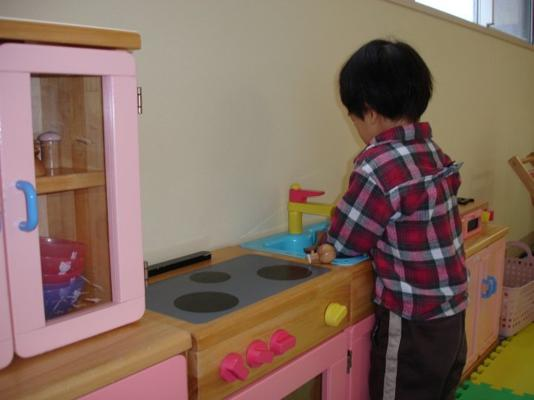person: (324, 39, 468, 400)
